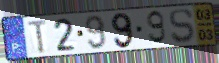2: (54, 17, 80, 54)
9: (110, 12, 137, 50), (84, 14, 109, 51), (145, 10, 168, 46)
S: (168, 8, 195, 45)
T: (27, 18, 49, 55)
